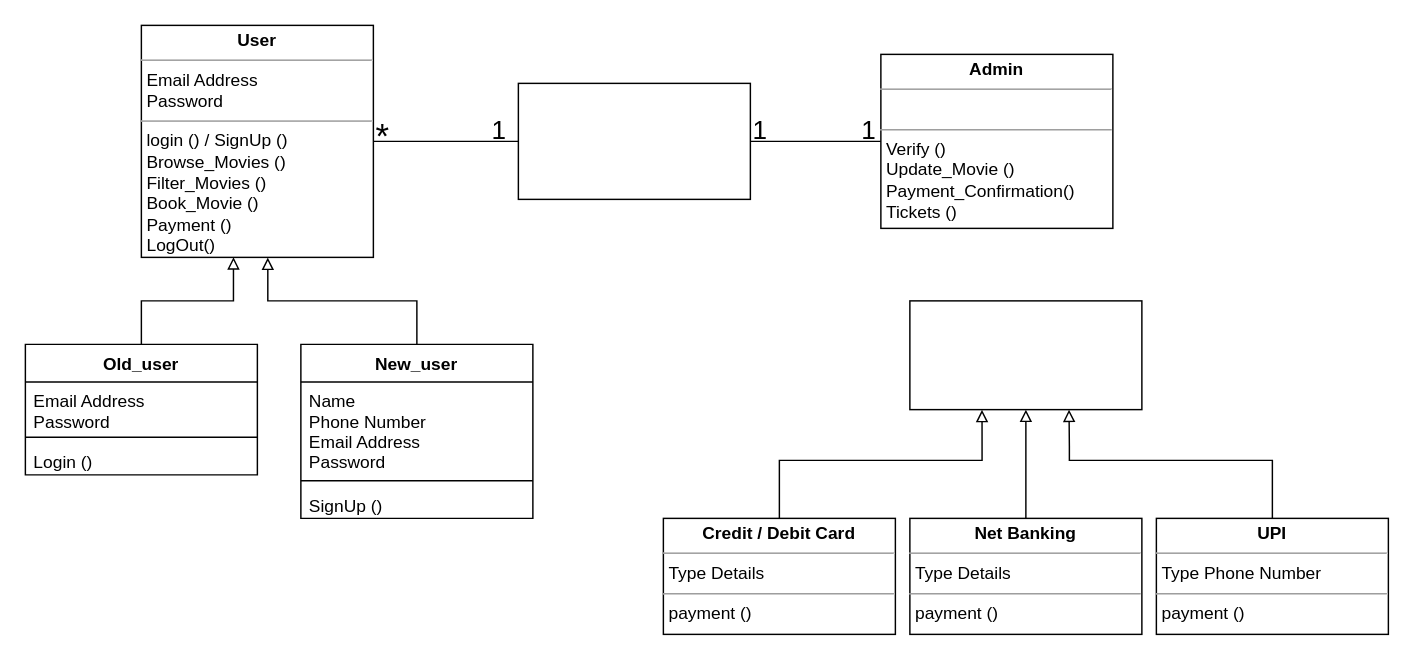
Some shapes in this 1414 by 660 pixel diagram are drawn without their labels. The shapes that lost their labels are listed below. From the top down, each one's centre as x and y in pixels, then its label:
At [633,140]: "System Dislpay Interact ()".
At [1025,354]: "Payment Show_Amount".
